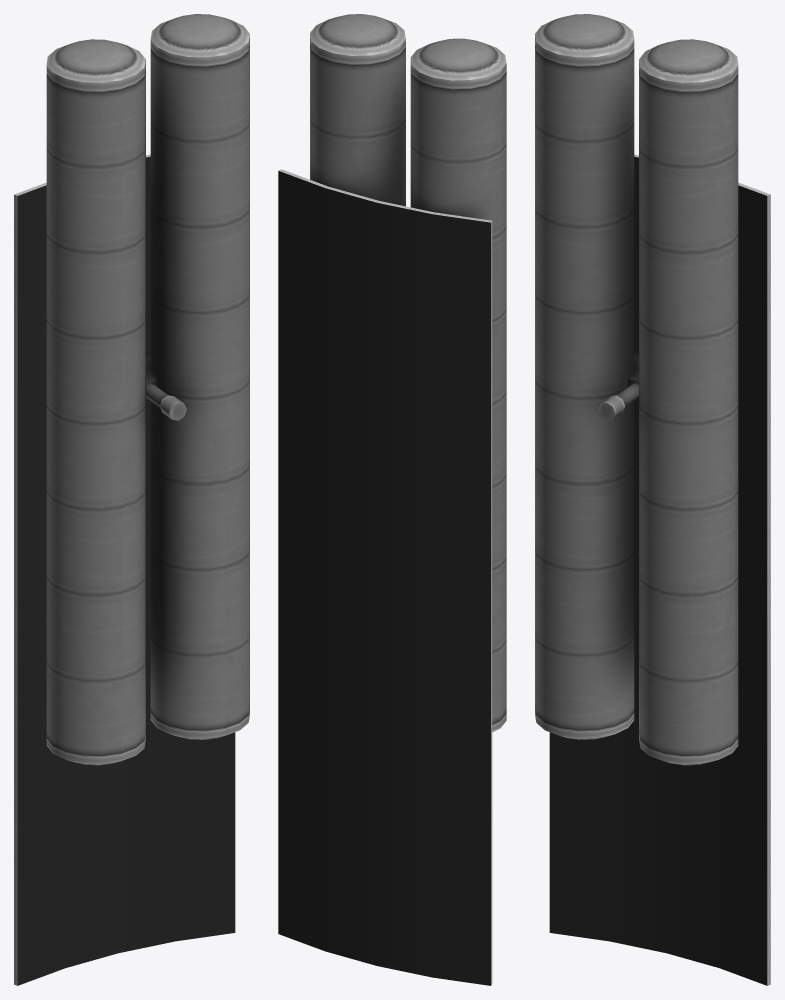
The model's file is aquila_radiator_fuel_tank_double_srf_2_overhang.obj.
The picture shows the model from 3 angles, left to right: view 1: azimuth 30°, elevation 25°; view 2: azimuth 150°, elevation 25°; view 3: azimuth 330°, elevation 25°; orthographic projection. The views are drawn at different scales.
Parts seen in each view (by area): view 1: aquila_radiator_tank_double_srf_2; view 2: aquila_radiator_tank_double_srf_2; view 3: aquila_radiator_tank_double_srf_2.
Part boxes in pixels (box(x1,y1,x2,y2)): aquila_radiator_tank_double_srf_2: box(14, 14, 249, 985); aquila_radiator_tank_double_srf_2: box(278, 14, 506, 985); aquila_radiator_tank_double_srf_2: box(535, 14, 770, 985).
Bounding box in the file's own units: 0.6341 × 2.59 × 0.3125.
